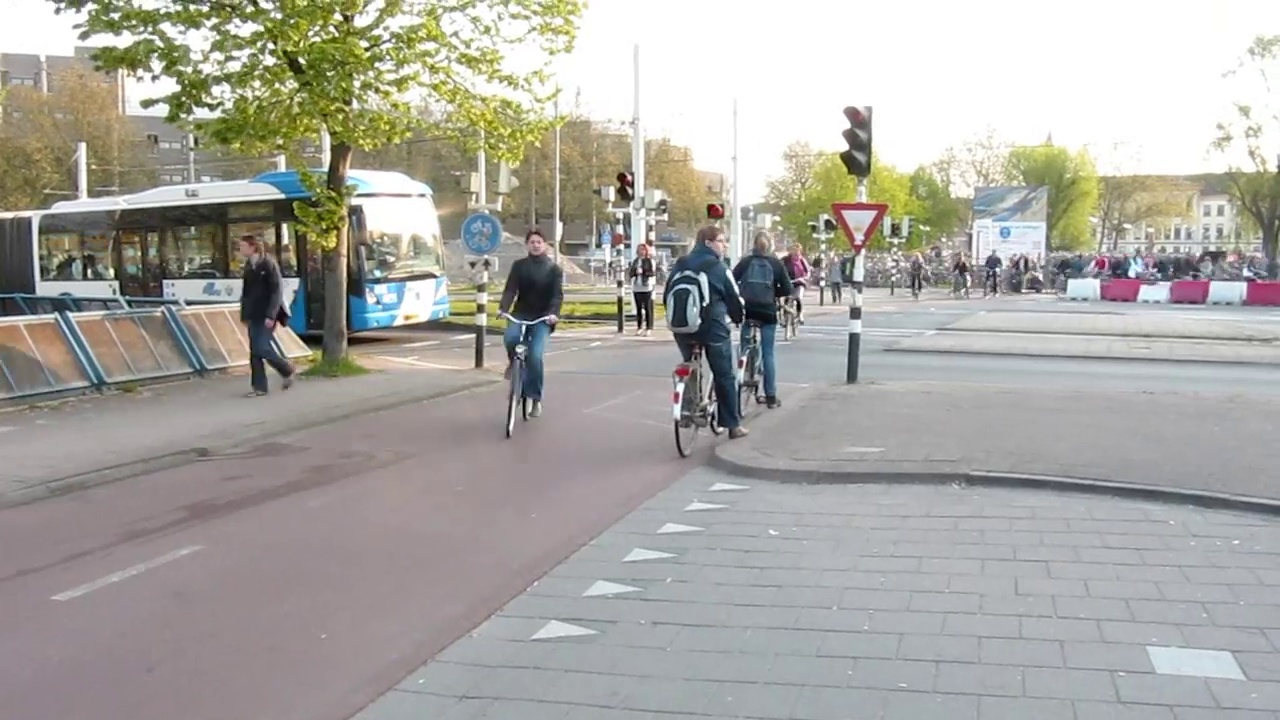cyclist_back: (661, 222, 749, 460), (729, 216, 782, 413)
cyclist_front: (496, 228, 563, 444), (773, 240, 809, 342)
